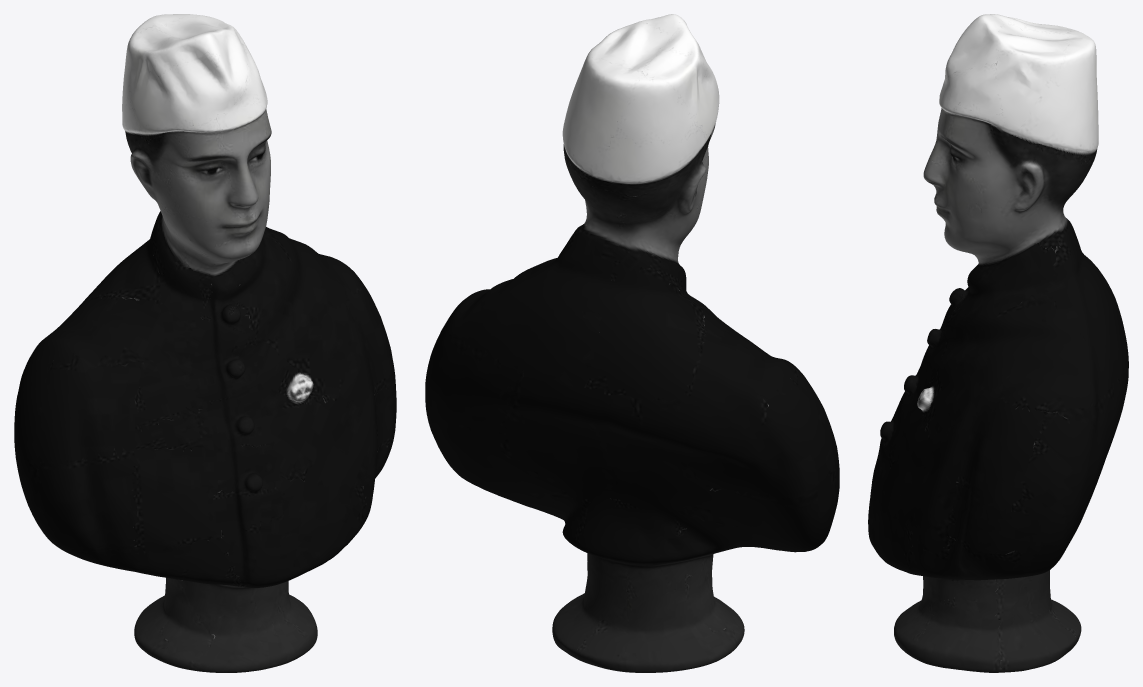
The model's file is Nehru_3D_optimized.glb.
The picture shows the model from 3 angles, left to right: view 1: azimuth 30°, elevation 25°; view 2: azimuth 150°, elevation 25°; view 3: azimuth 270°, elevation 25°; orthographic projection. The views are drawn at different scales.
Size of the model in its own units: 1.2 by 1.9 by 0.7371.
1 material, 1 textured.
